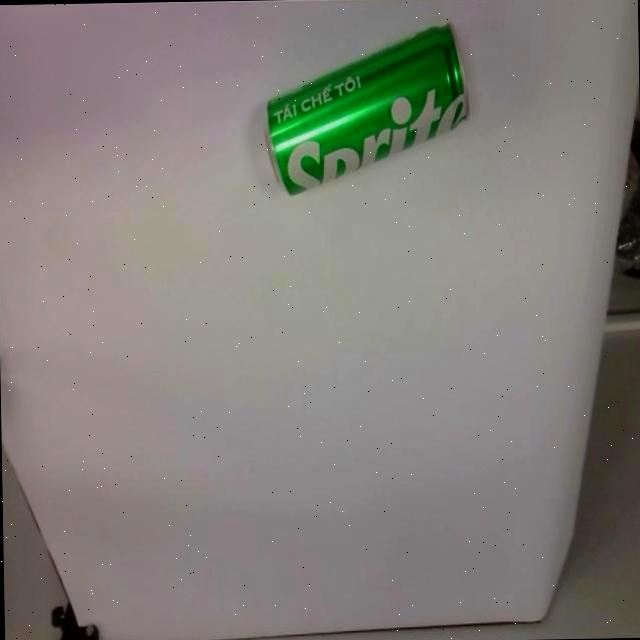debris: (263, 22, 471, 198)
